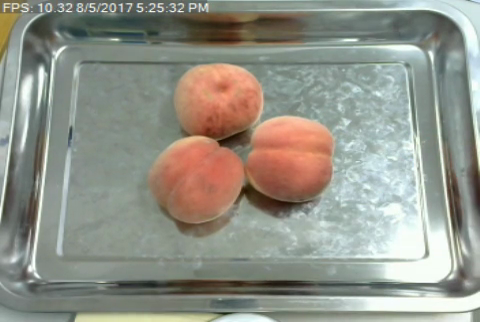Peach: (149, 135, 244, 223), (247, 114, 334, 201), (172, 62, 262, 138)
